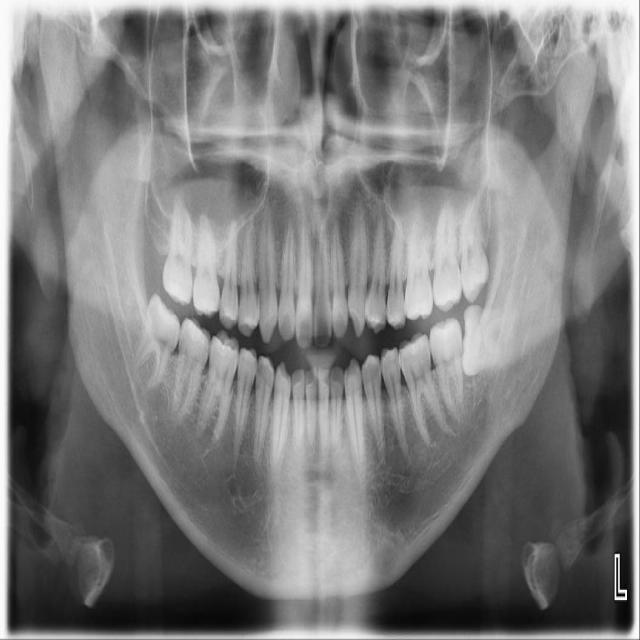impacted tooth: (461, 305, 526, 374)
